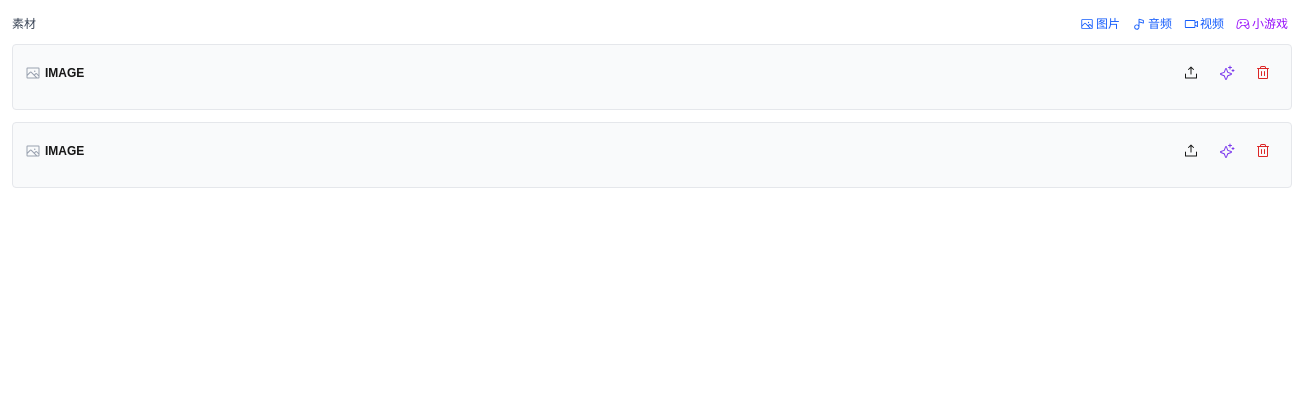
Test: AssetEditor › 新增素材时不应该重挂载已有的展开表单
Click the 2nd button titled "AI 生成素材" at (1227, 151), box [1211,135,1243,167]
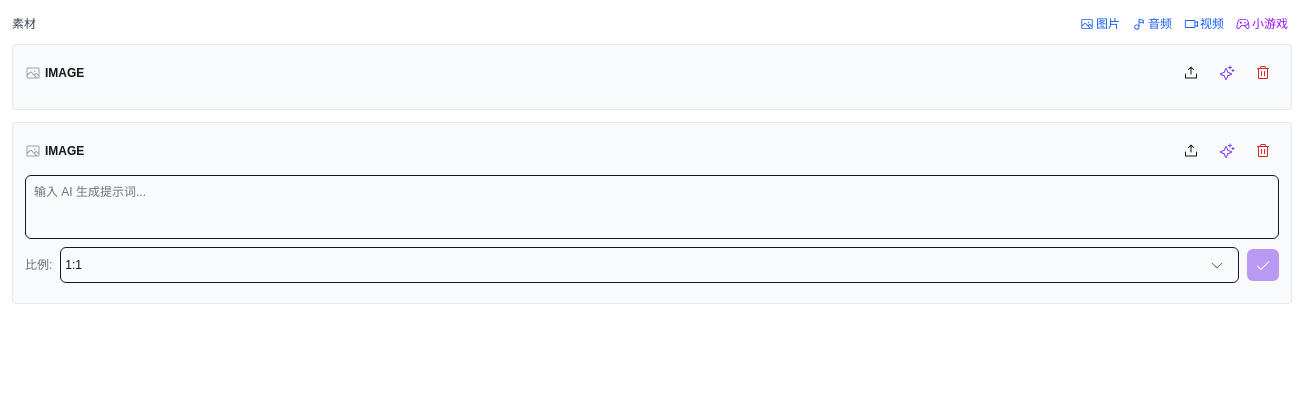
Click the button titled "添加音频" at (1152, 24), box [1128,12,1176,36]
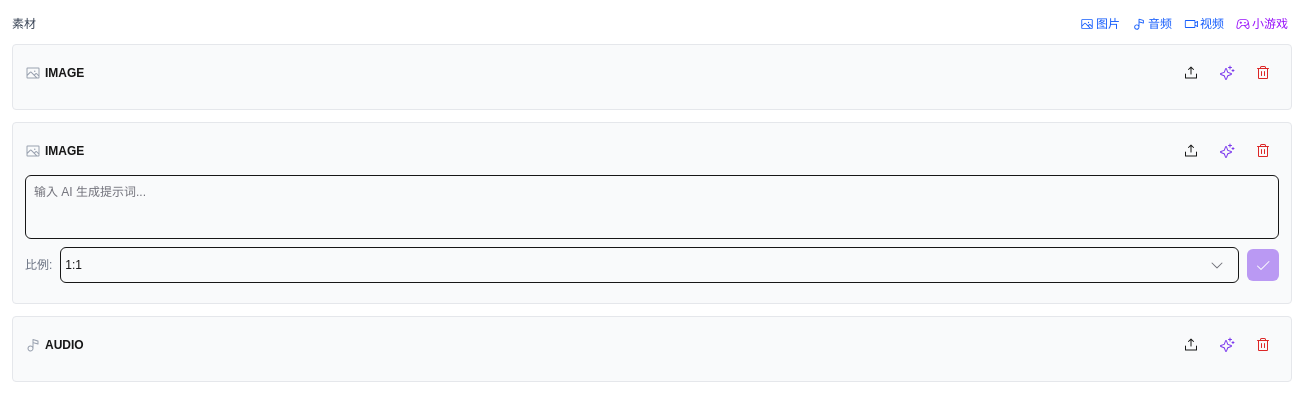
Expected: the number of buttons titled "AI 生成素材" is 3, [1211,57,1243,89]; [1211,135,1243,167]; [1211,329,1243,361]
